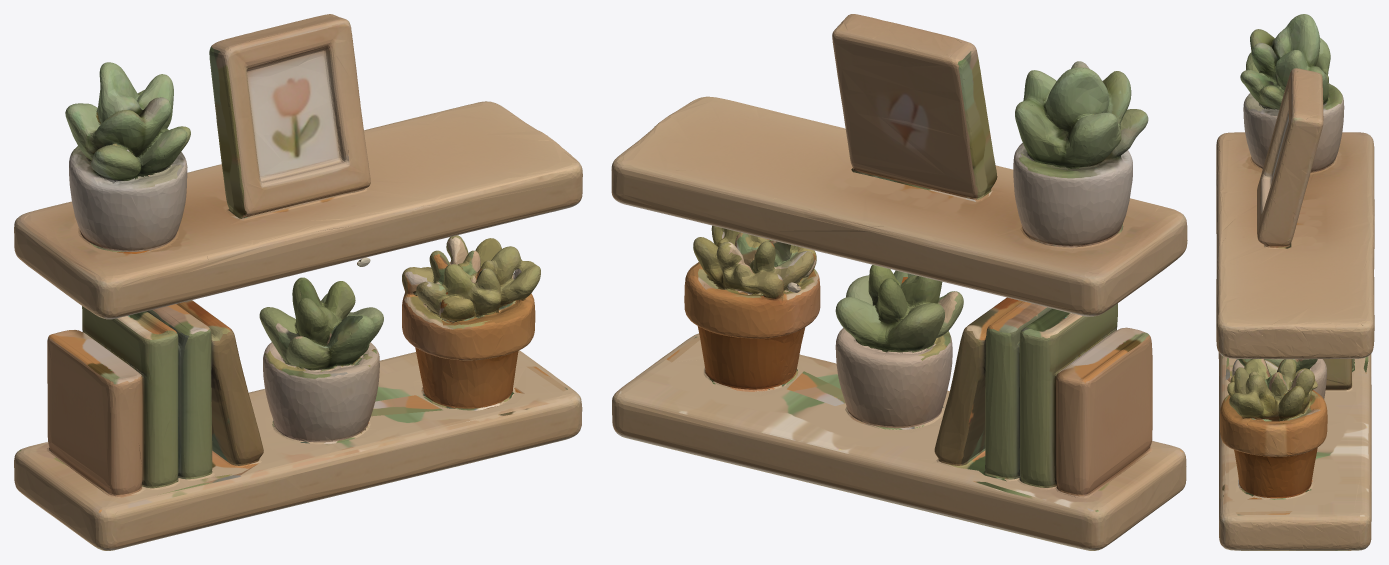
3 views of the same model, side by side, from view 1: azimuth 30°, elevation 25°; view 2: azimuth 150°, elevation 25°; view 3: azimuth 270°, elevation 25° (orthographic). The views are drawn at different scales.
Visible parts, largest first — view 1: world; view 2: world; view 3: world.
Boxes of the visible parts, box(x1,y1,x2,y2) form: world: box(14, 14, 582, 550); world: box(611, 14, 1187, 550); world: box(1216, 14, 1374, 550).
Size of the model in its own units: 1.99 by 1.72 by 0.6753.
Materials: 1 (1 with a texture image).
